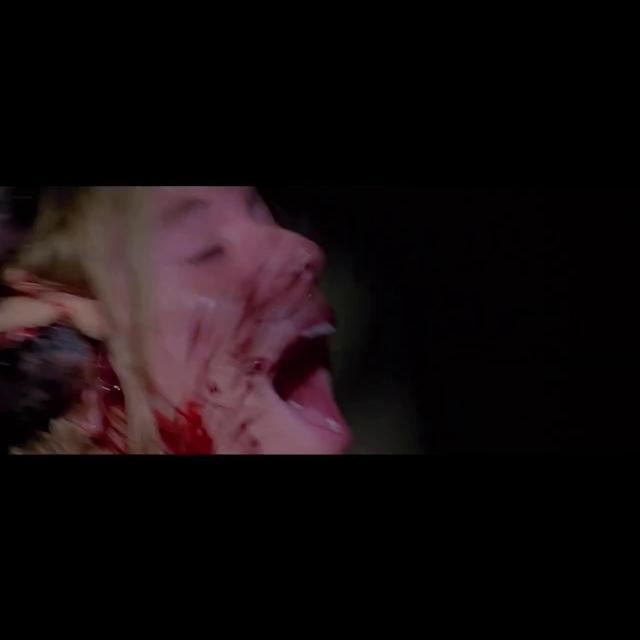blood: (0, 234, 220, 454), (206, 268, 332, 406)
